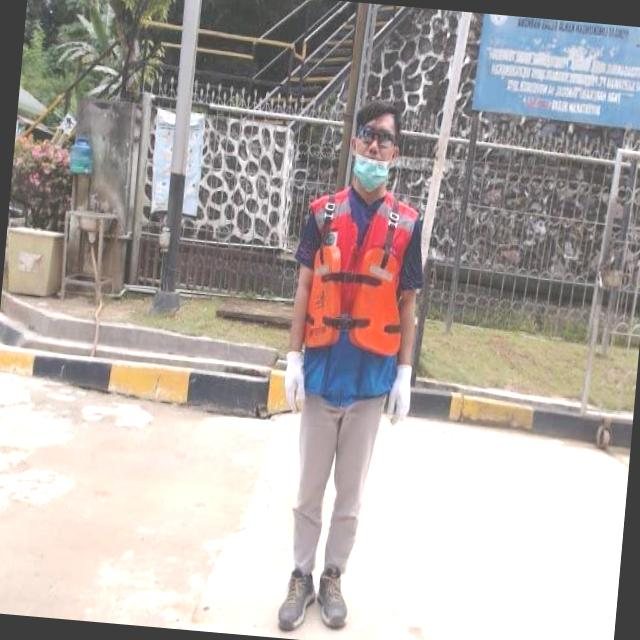boots: (274, 560, 315, 634), (313, 562, 352, 630)
vest: (293, 182, 419, 407)
